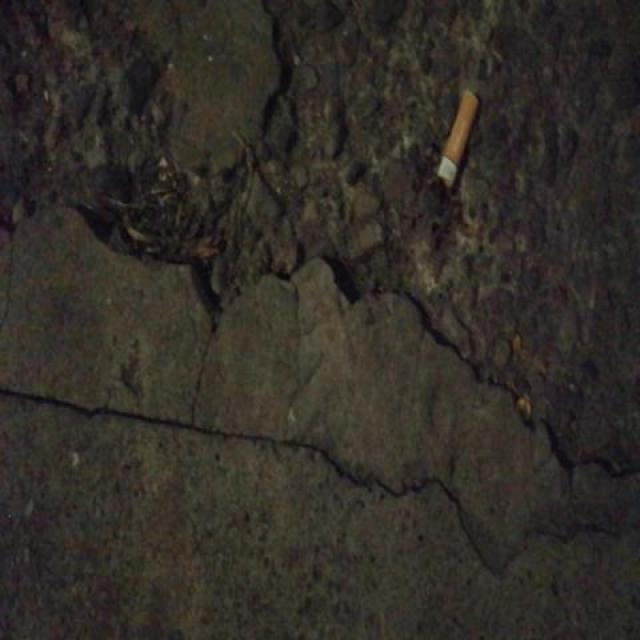non-organic waste: (435, 85, 481, 192)
